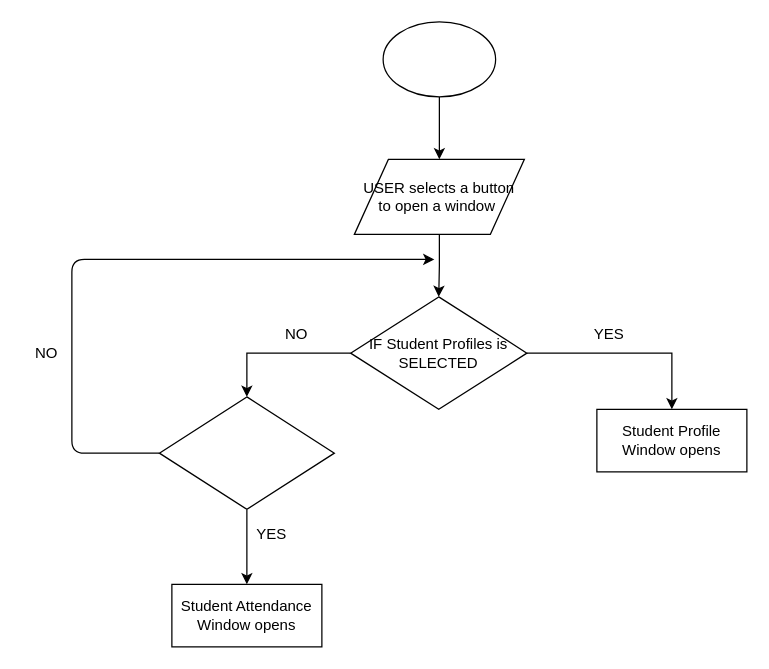
This 769x669 diagram has some shape labels left out. The shapes that lost their labels are listed below. From the top down, each one's box as (x1, y1, x2, y2) in pixels, then its label:
(382, 21, 496, 97): START
(158, 396, 334, 509): IF Student Attendance is SELECTED
